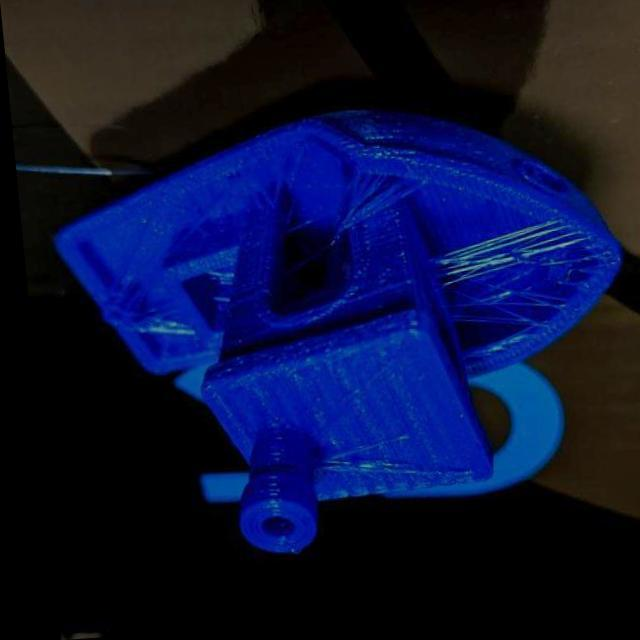stringing: (433, 229, 567, 284), (464, 280, 545, 336), (339, 177, 401, 224)
